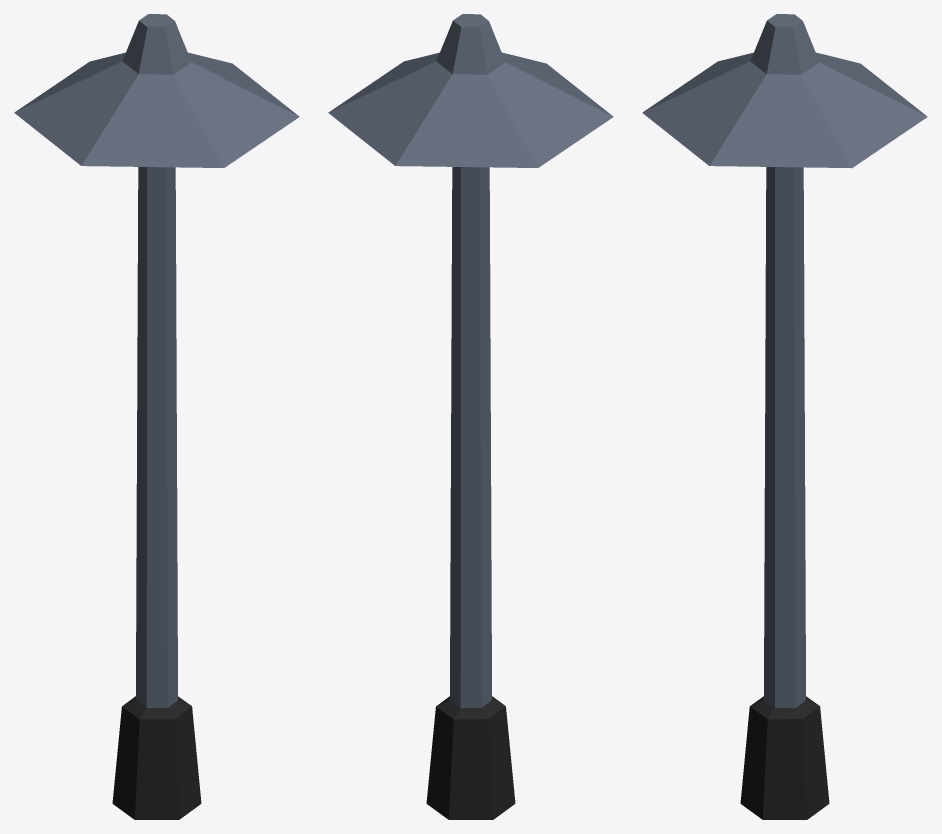
File: Lantern 4.fbx
3 renders of one model, left to right at view 1: azimuth 30°, elevation 25°; view 2: azimuth 150°, elevation 25°; view 3: azimuth 270°, elevation 25°, orthographic.
Parts seen in each view (by area): view 1: Lantern_04; view 2: Lantern_04; view 3: Lantern_04.
Boxes of the visible parts, x1,y1,x2,y2 form: Lantern_04: (14, 14, 299, 819); Lantern_04: (328, 14, 613, 819); Lantern_04: (642, 14, 927, 819).
Bounding box in the file's own units: 60.95 × 209 × 69.03.
